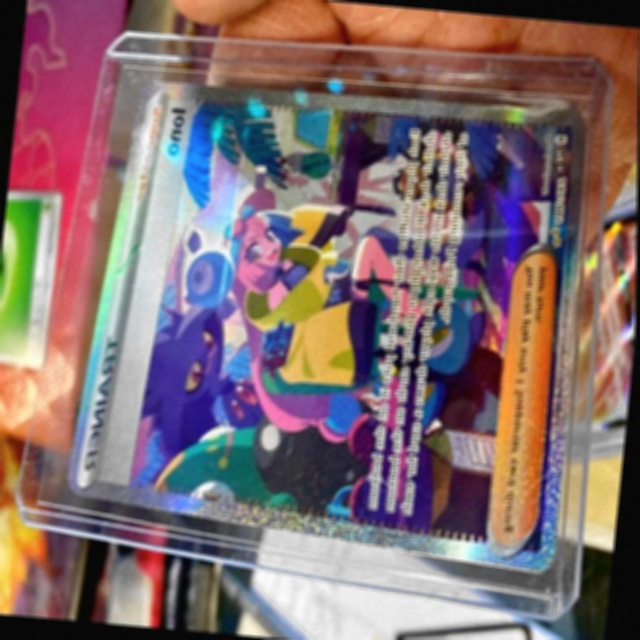card: (65, 76, 585, 574)
